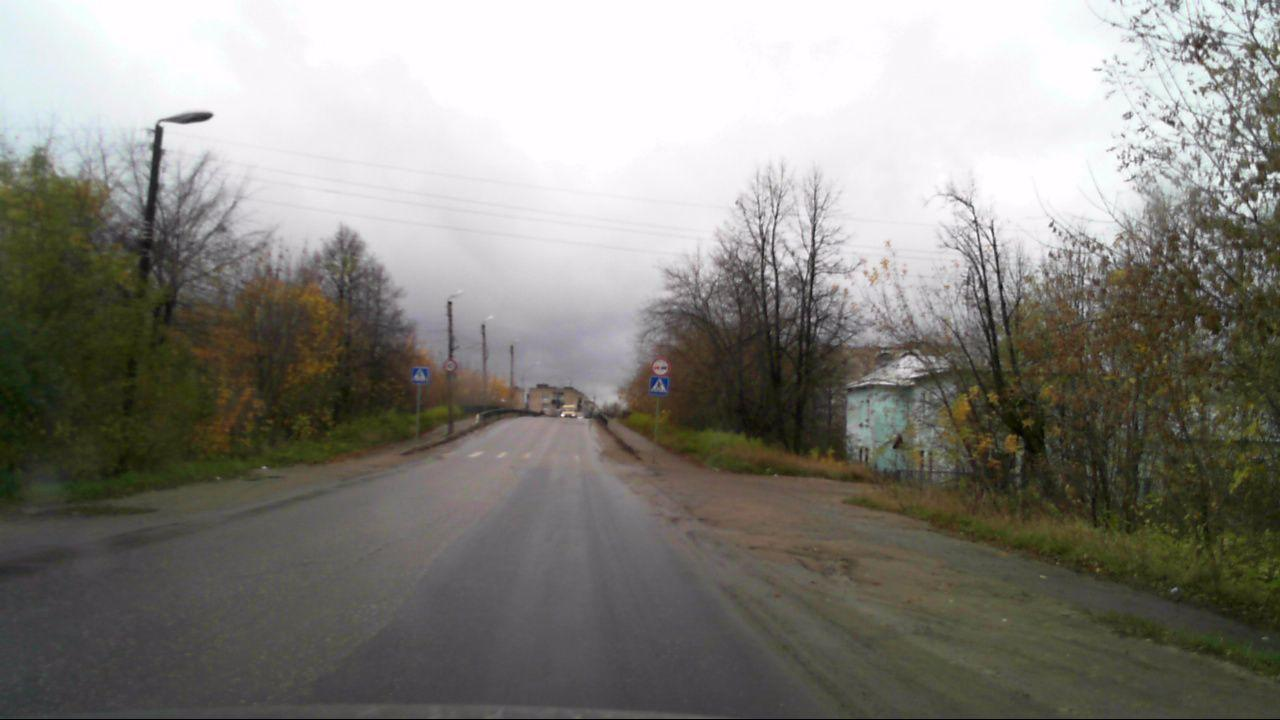road_sign: (649, 376, 670, 397), (652, 355, 672, 374), (411, 365, 429, 384)
